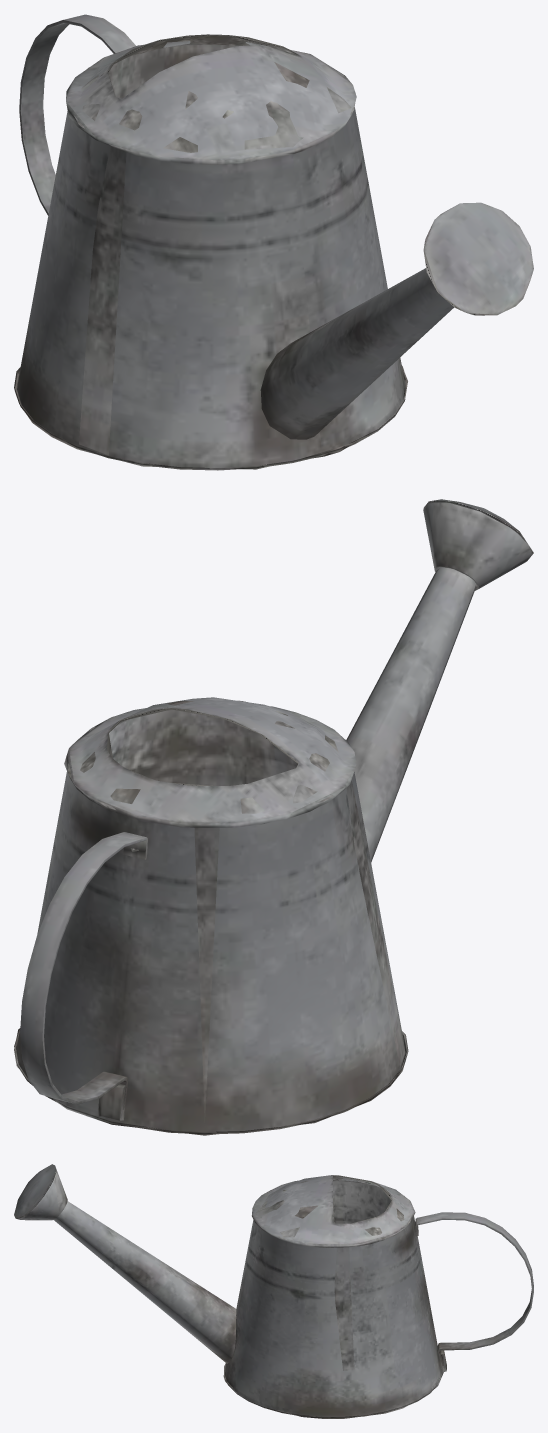
File: scene-watering-can.glb
The picture shows the model from 3 angles, top to bottom: view 1: azimuth 30°, elevation 25°; view 2: azimuth 150°, elevation 25°; view 3: azimuth 270°, elevation 25°; orthographic projection. The views are drawn at different scales.
Parts seen in each view (by area): view 1: watering_can_metal_01; view 2: watering_can_metal_01; view 3: watering_can_metal_01.
Part boxes in pixels (x1=…): watering_can_metal_01: x1=14, y1=14, x2=533, y2=470; watering_can_metal_01: x1=14, y1=499, x2=533, y2=1135; watering_can_metal_01: x1=14, y1=1164, x2=533, y2=1418.
Bounding box in the file's own units: 0.1905 × 0.1965 × 0.4521.
1 material, 1 textured.
